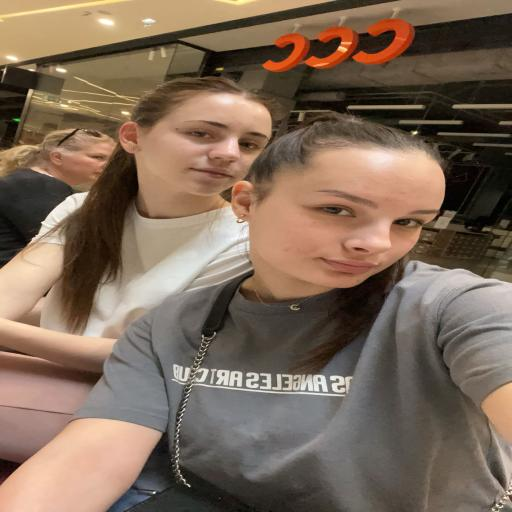marija: (248, 138, 452, 288)
masa: (136, 87, 276, 198)
